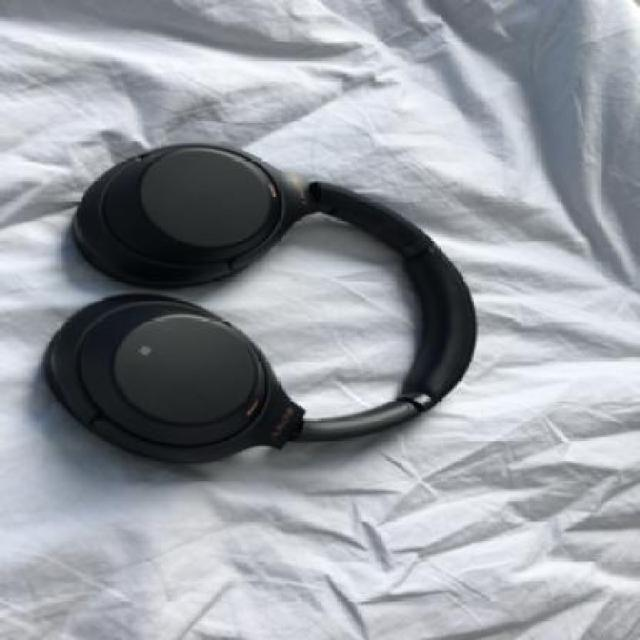earphone: (43, 110, 485, 515)
